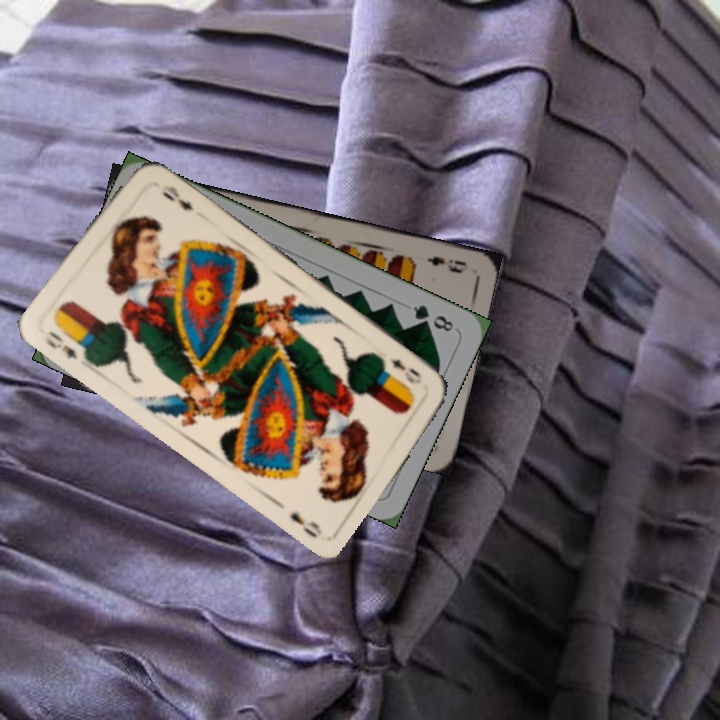E9: (423, 251, 469, 276)
EO: (40, 326, 81, 362), (387, 354, 425, 388)
G8: (409, 301, 456, 334)
